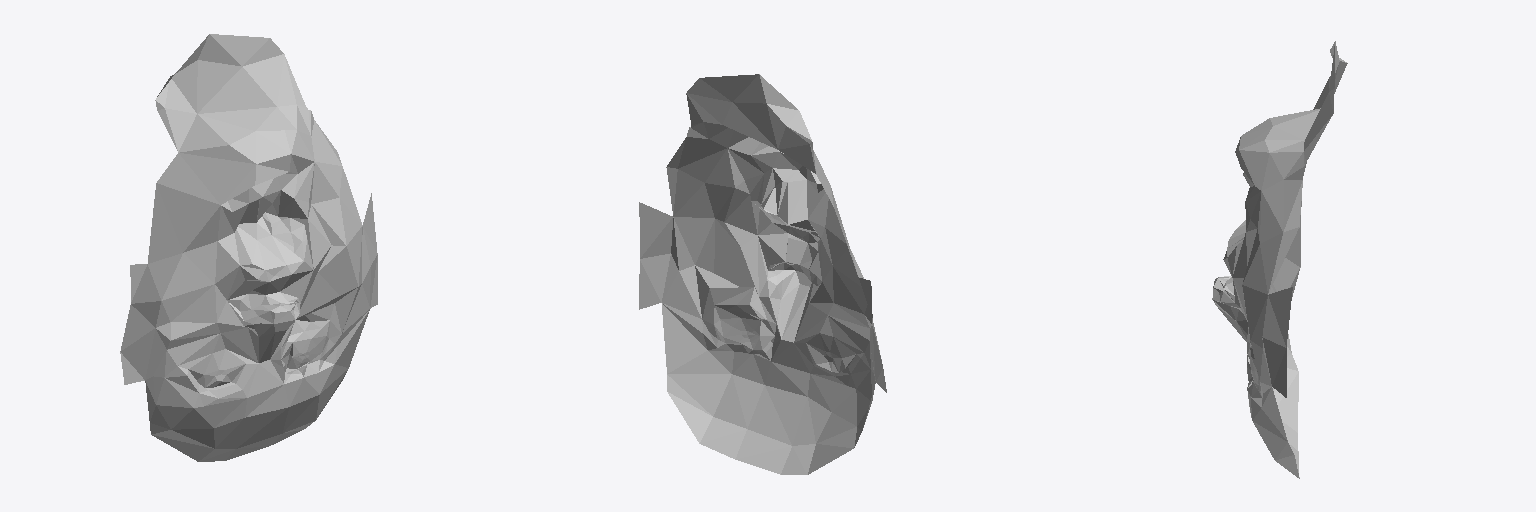
Rendered from head1.obj.
3 views of the same model, side by side, from view 1: azimuth 30°, elevation 25°; view 2: azimuth 150°, elevation 25°; view 3: azimuth 270°, elevation 25° (orthographic).
Parts seen in each view (by area): view 1: Head_Plane; view 2: Head_Plane; view 3: Head_Plane.
Boxes of the visible parts, <box> form: Head_Plane: <box>120,34,377,461</box>; Head_Plane: <box>639,74,886,474</box>; Head_Plane: <box>1212,41,1347,478</box>.
Bounding box in the file's own units: 0.5168 × 0.8129 × 0.2413.